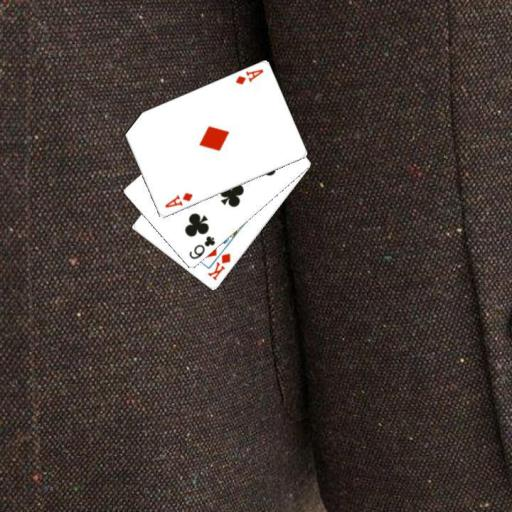6C: (185, 233, 217, 261)
AD: (162, 190, 194, 210), (233, 66, 265, 86)
KD: (204, 250, 232, 282)
